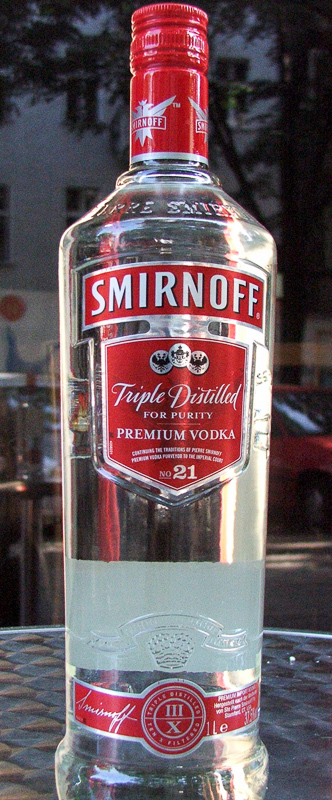Smirnoff: (32, 2, 296, 799)
